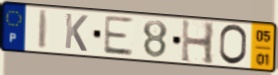8: (141, 18, 169, 60)
E: (102, 14, 135, 57)
H: (180, 18, 217, 66)
I: (37, 9, 50, 51)
K: (63, 11, 89, 53)
O: (218, 23, 249, 67)
